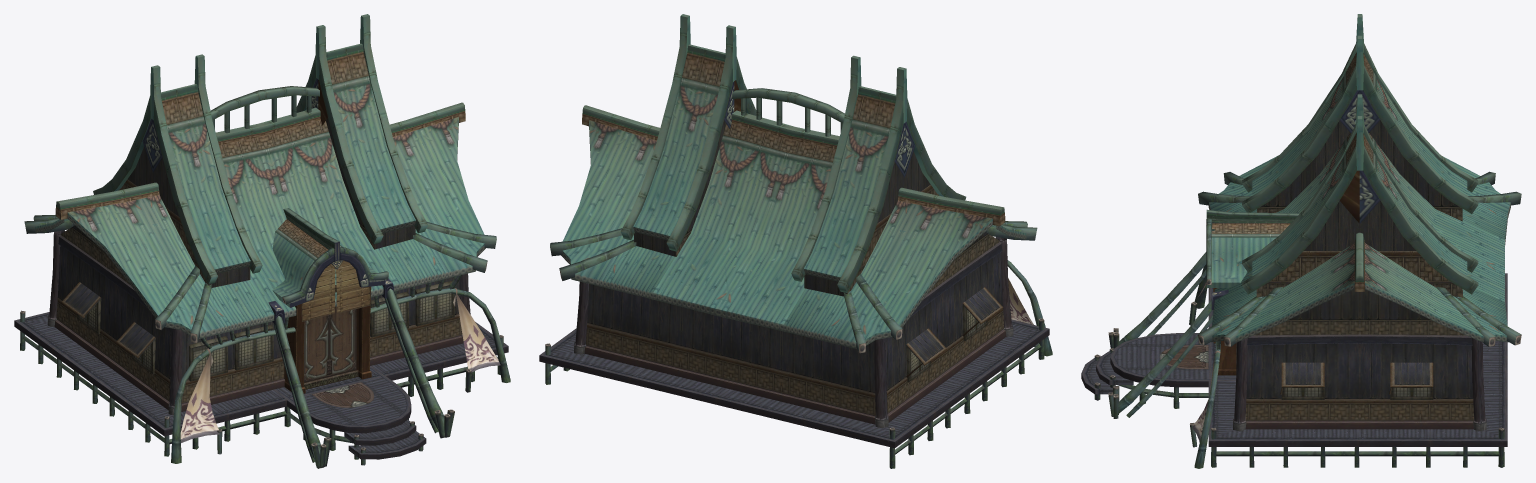
Rendered from yw_tangmen_zhudian01_53_55_6357out.fbx.
3 views of the same model, side by side, from view 1: azimuth 30°, elevation 25°; view 2: azimuth 150°, elevation 25°; view 3: azimuth 270°, elevation 25° (orthographic). The views are drawn at different scales.
Visible parts, largest first — view 1: yw_tangmen_zhudian01; view 2: yw_tangmen_zhudian01; view 3: yw_tangmen_zhudian01.
Boxes of the visible parts, box(x1,y1,x2,y2) form: yw_tangmen_zhudian01: box(14, 14, 510, 468); yw_tangmen_zhudian01: box(539, 14, 1052, 468); yw_tangmen_zhudian01: box(1081, 14, 1521, 468).
Size of the model in its own units: 12.41 by 9.43 by 11.73.
